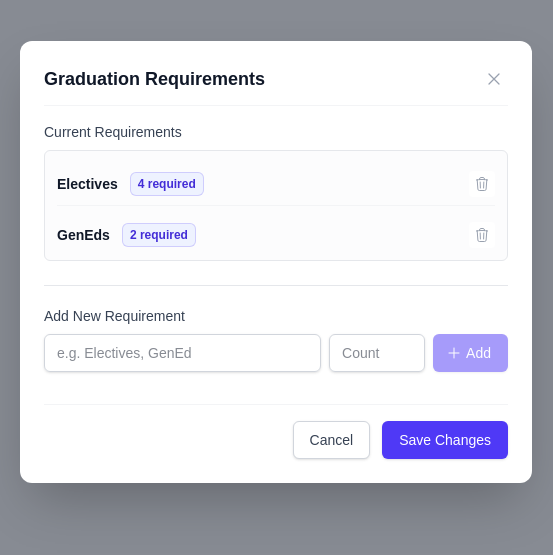
it: GraduationRequirementsModal › adds a new requirement
Type "Major Cores" into the field with placeholder "e.g. Electives, GenEd" at (183, 353), box left=44, top=334, right=321, bottom=372
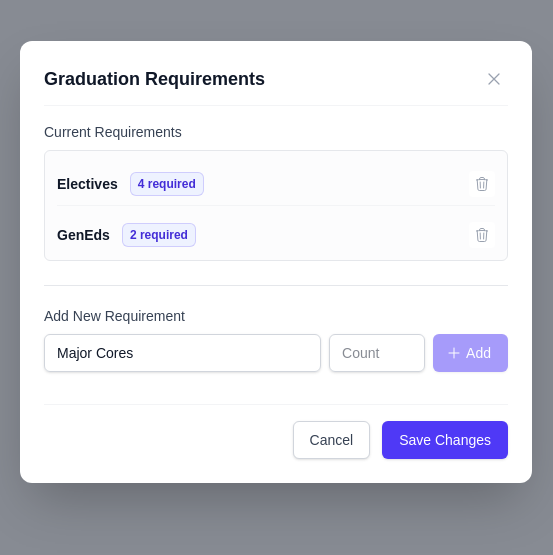
Type "10" into the number field with placeholder "Count" at (377, 353), box left=329, top=334, right=425, bottom=372
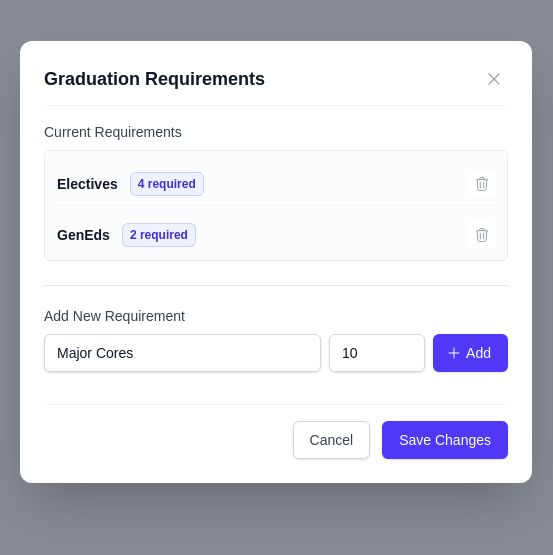
Click the button "Add" at (471, 353), box left=433, top=334, right=508, bottom=372
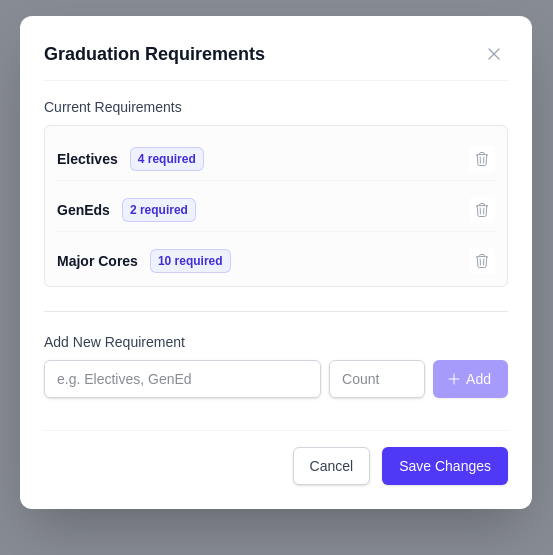
Expected: the text "Major Cores" is shown, left=57, top=250, right=138, bottom=270
Expected: the text "10 required" is shown, left=150, top=248, right=231, bottom=272
